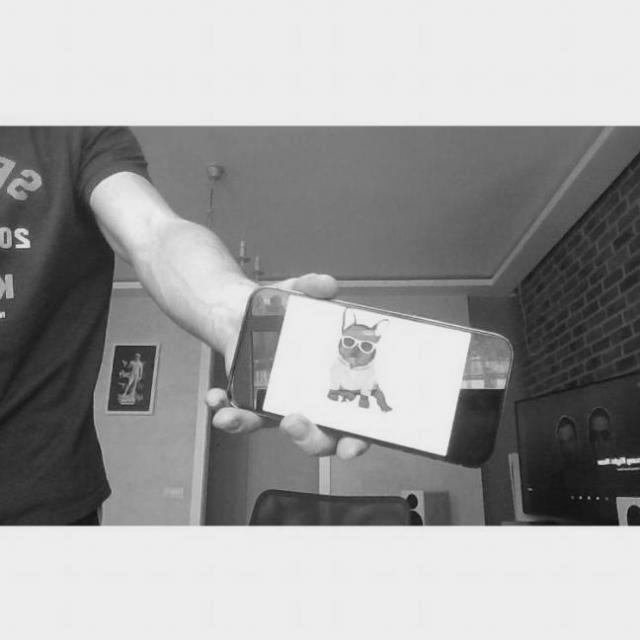fake: (220, 286, 516, 468)
